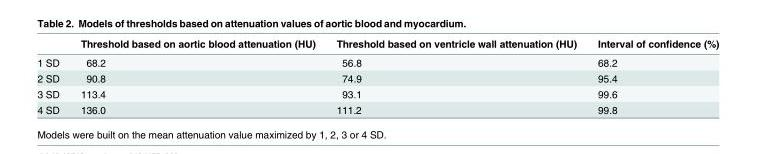table: (36, 37, 718, 115)
table column: (325, 37, 586, 115), (69, 37, 325, 115), (586, 37, 718, 115), (36, 37, 69, 115)
table column header: (36, 37, 718, 52)
table row: (36, 52, 718, 70), (36, 85, 718, 101), (36, 37, 718, 52), (36, 70, 718, 85), (36, 101, 718, 115)
